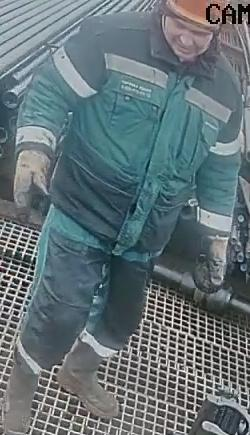gloves: (12, 144, 54, 220), (191, 233, 230, 293)
helmet: (156, 0, 232, 26)
vest: (46, 10, 244, 256)
